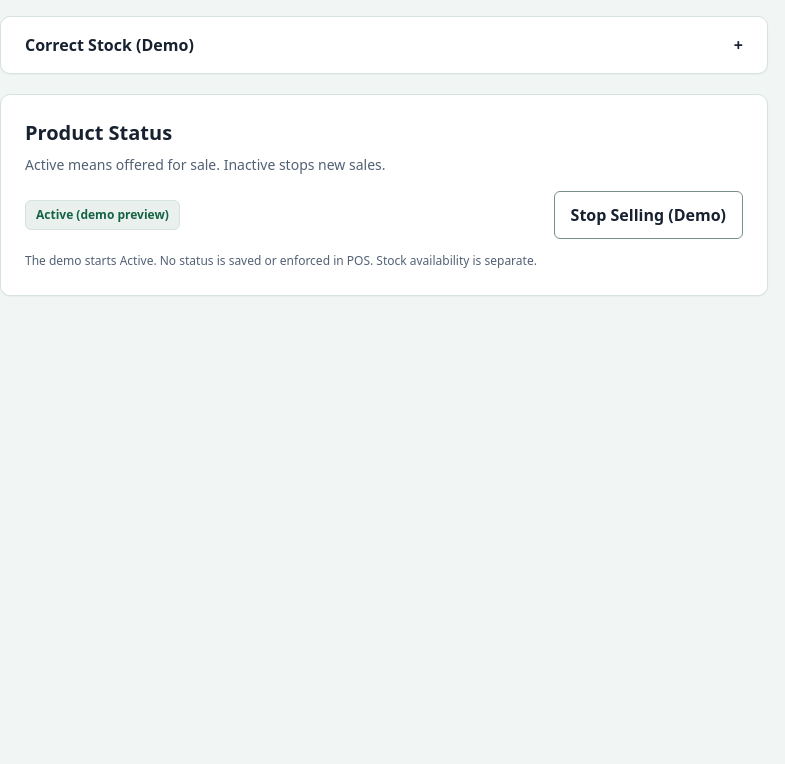
Test: separate, non-persistent product status preview › does not treat zero stock as inactive or add a persisted status to the fixture
Expected: the text "Active (demo preview)" is shown, left=25, top=200, right=180, bottom=230
Expected: the button "Stop Selling (Demo)" is enabled, left=554, top=191, right=743, bottom=239
Click the heading "Correct Stock (Demo) +" at (109, 45), box left=25, top=34, right=743, bottom=56
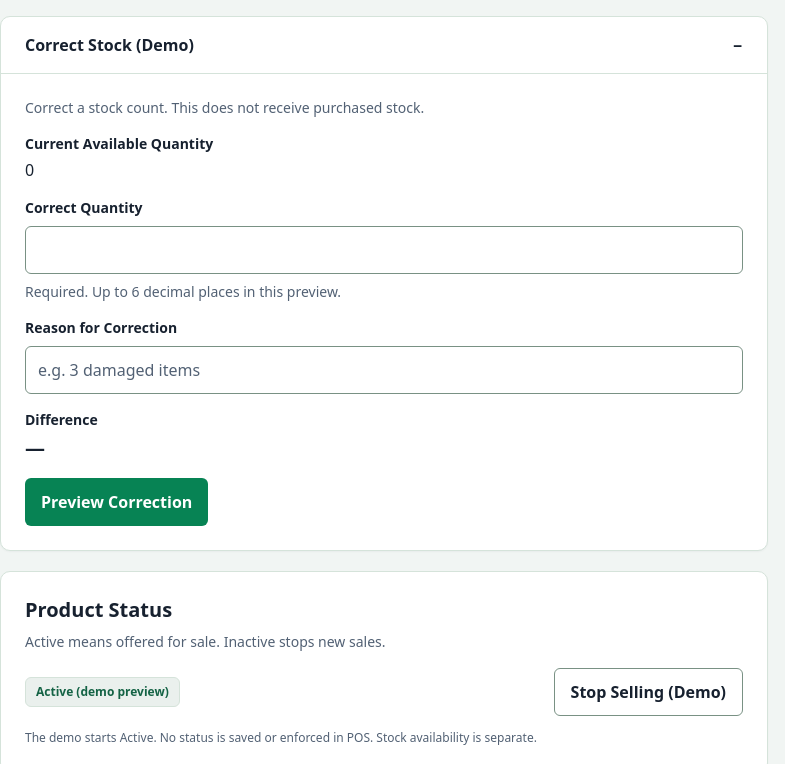
Expected: the text with test id "correction-current-quantity" reads "0", left=25, top=159, right=34, bottom=181
